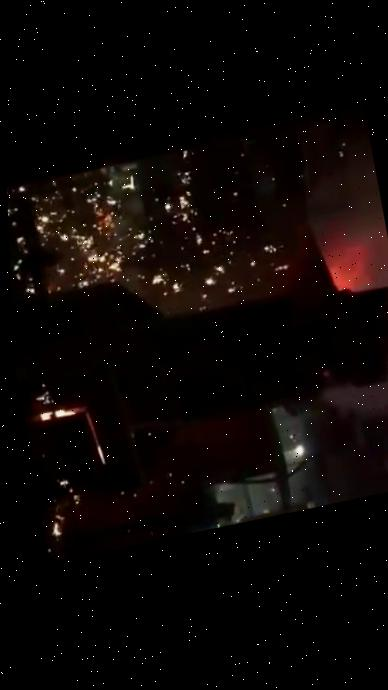fire: (39, 69, 349, 621), (39, 69, 349, 621)
